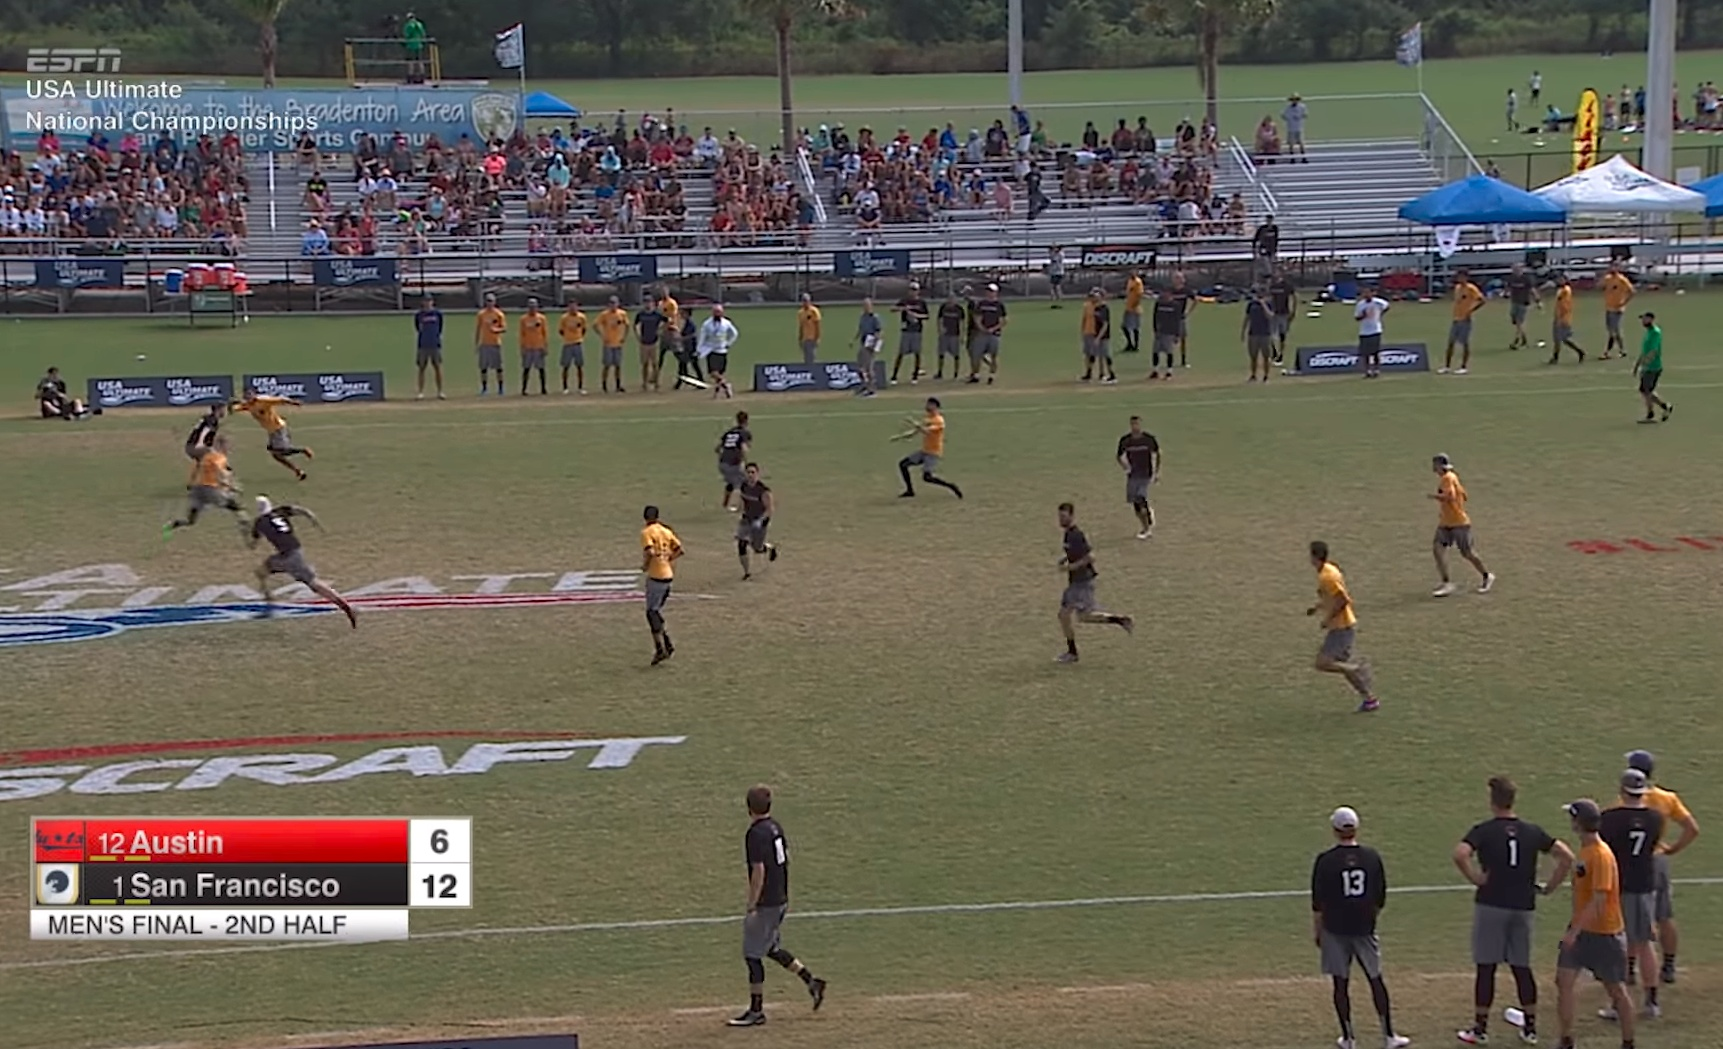frisbee: (679, 374, 711, 389), (1311, 300, 1324, 307), (1418, 298, 1433, 303), (1307, 311, 1321, 316)
